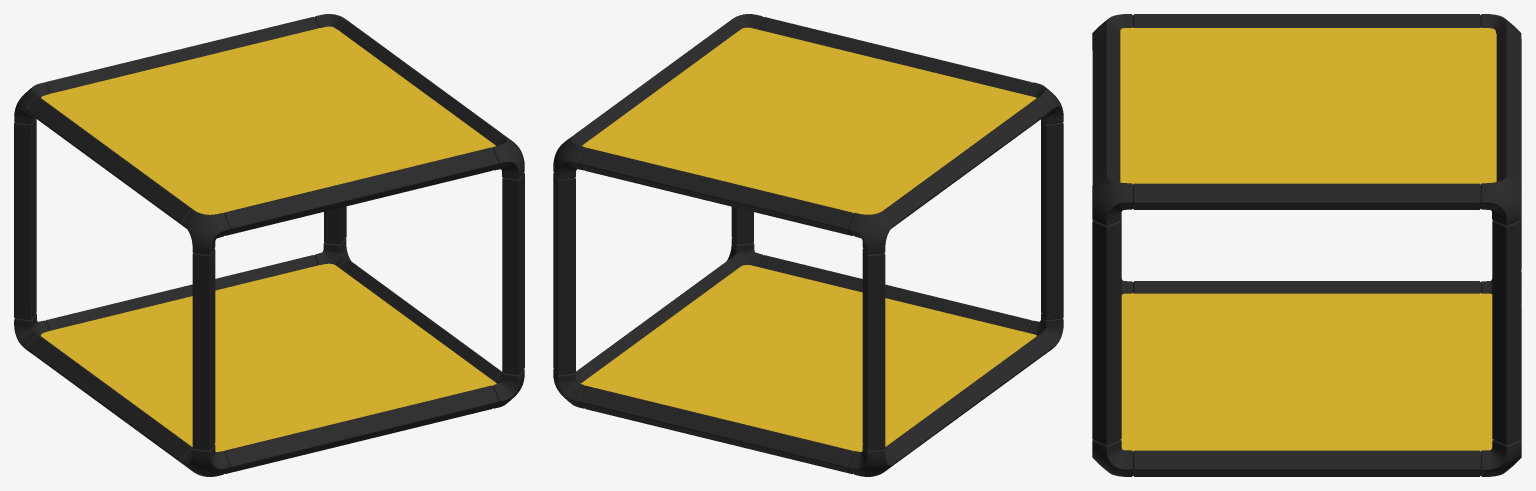
3 views of the same model, side by side, from view 1: azimuth 30°, elevation 25°; view 2: azimuth 150°, elevation 25°; view 3: azimuth 270°, elevation 25° (orthographic). The views are drawn at different scales.
Visible parts, largest first — view 1: 329x329x229; view 2: 329x329x229; view 3: 329x329x229.
Part boxes in pixels (x1,y1,x2,y2): 329x329x229: (14, 14, 524, 476); 329x329x229: (553, 14, 1063, 476); 329x329x229: (1092, 14, 1521, 476).
Bounding box in the file's own units: 0.4067 × 0.3066 × 0.4063.
